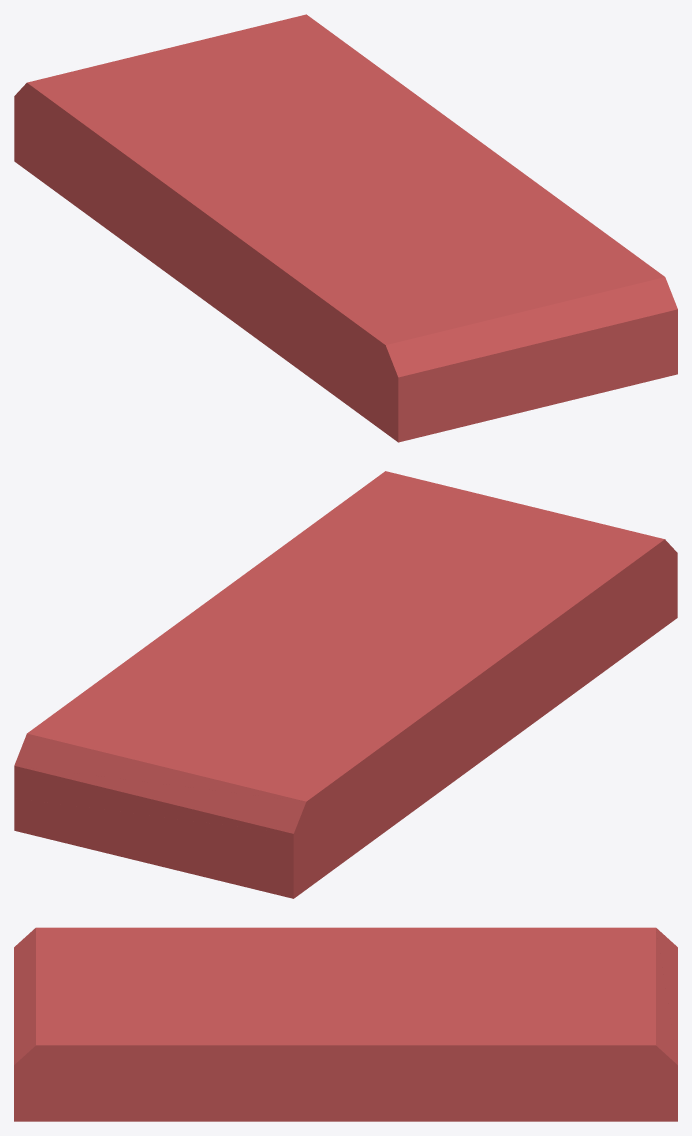
File: ct_mecha_obj04l.glb
The picture shows the model from 3 angles, top to bottom: view 1: azimuth 30°, elevation 25°; view 2: azimuth 150°, elevation 25°; view 3: azimuth 270°, elevation 25°; orthographic projection. The views are drawn at different scales.
Visible parts, largest first — view 1: ct_mecha_obj04l_col; view 2: ct_mecha_obj04l_col; view 3: ct_mecha_obj04l_col.
Boxes of the visible parts, left/top/right/bottom form: ct_mecha_obj04l_col: left=14, top=14, right=677, bottom=442; ct_mecha_obj04l_col: left=14, top=471, right=677, bottom=898; ct_mecha_obj04l_col: left=14, top=927, right=677, bottom=1121.
Bounding box in the file's own units: 4.51 × 1.35 × 10.71.
